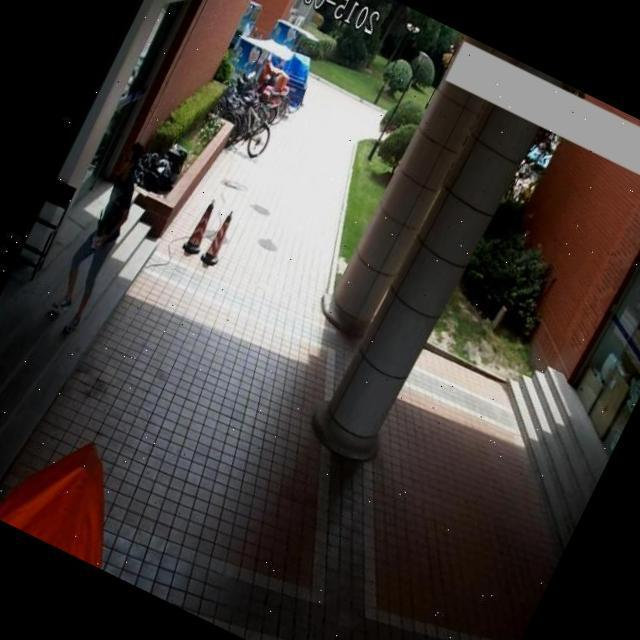person: (30, 134, 164, 348)
